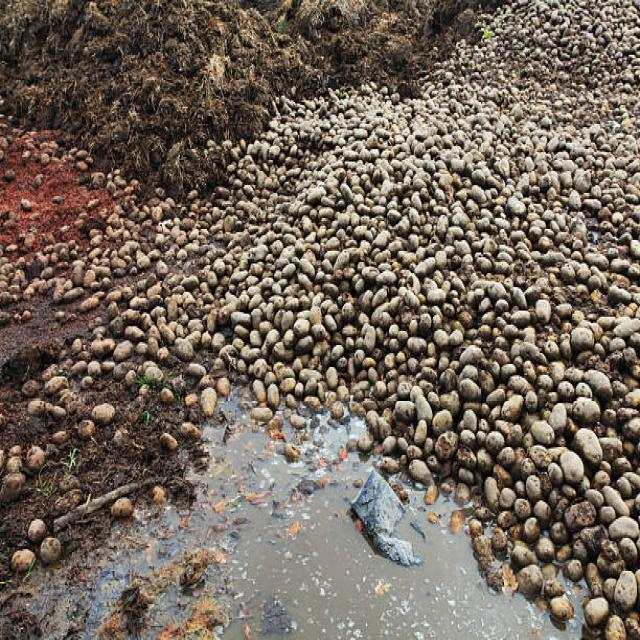trash: (229, 420, 405, 593)
